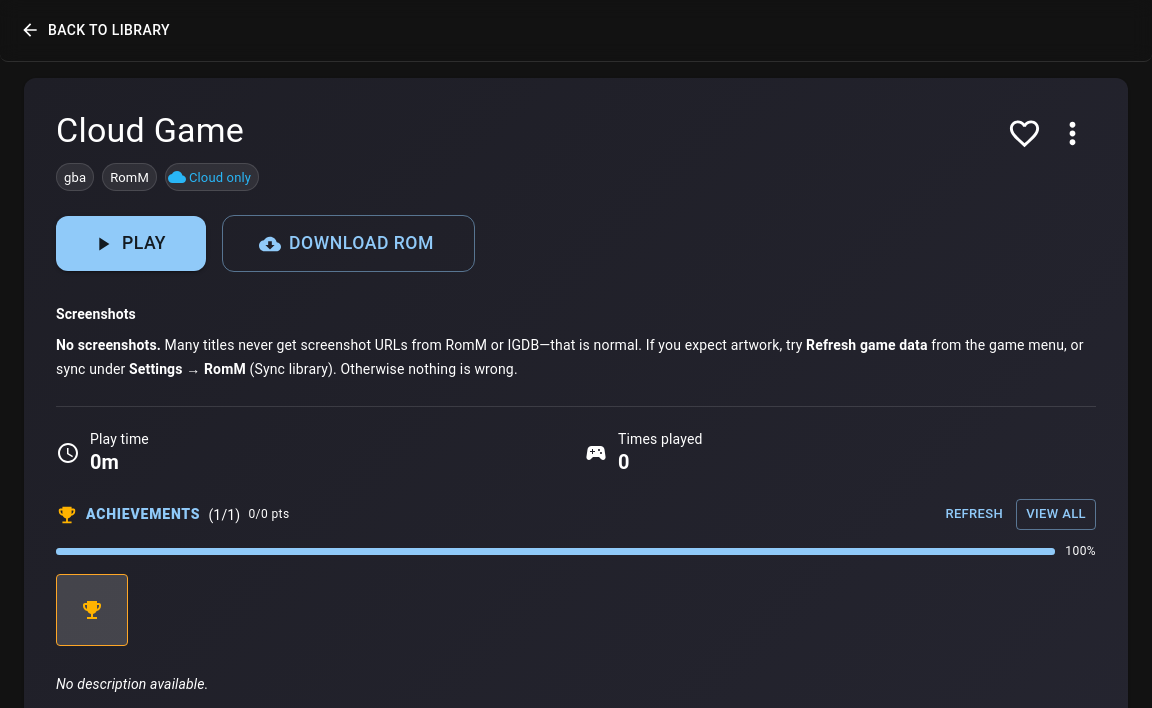
Test: GameDetails RetroAchievements refresh › retains the previous rows and marks them after a rejected refresh
Check: the text "(1/1)" is shown, box [208,505,240,525]
Step 1. Click the button with aria-label "Refresh achievement progress" → coordinates (974, 515), box [940,499,1008,530]
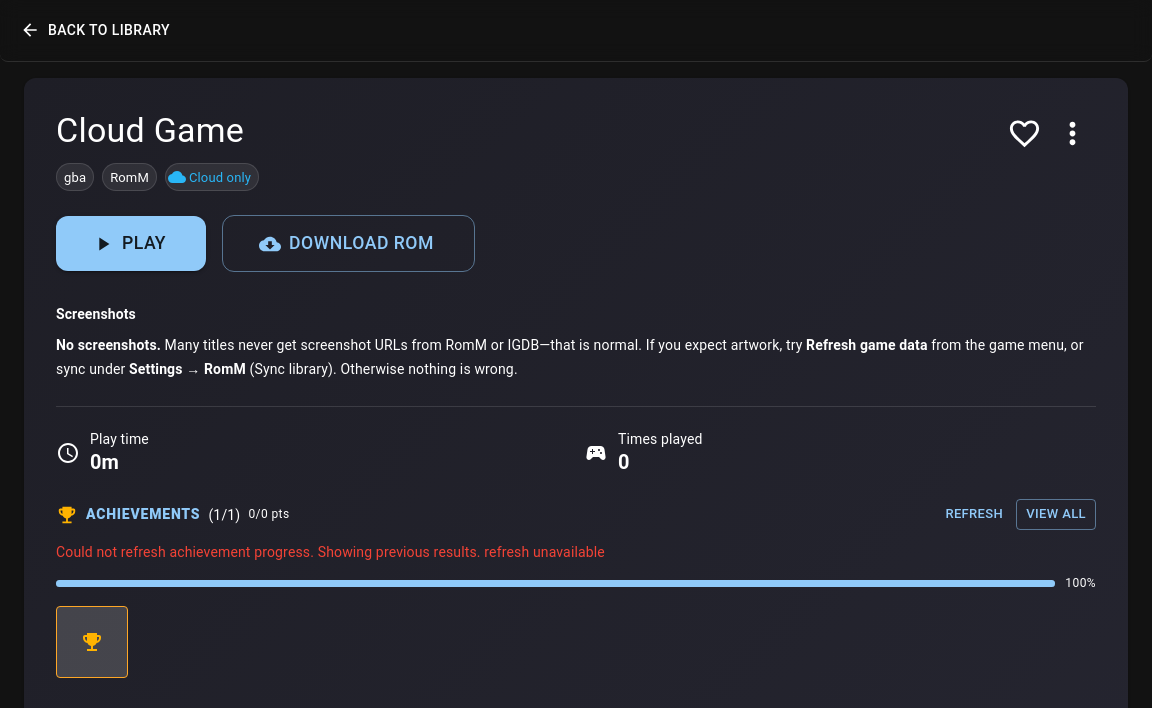
Check: the text "(1/1)" is shown, box [208,505,240,525]
Check: the message with test id "achievements-previous-result" shows "refresh unavailable", box [484,544,605,560]
Step 2. Click the button "View all" → coordinates (1056, 515), box [1016,499,1096,530]
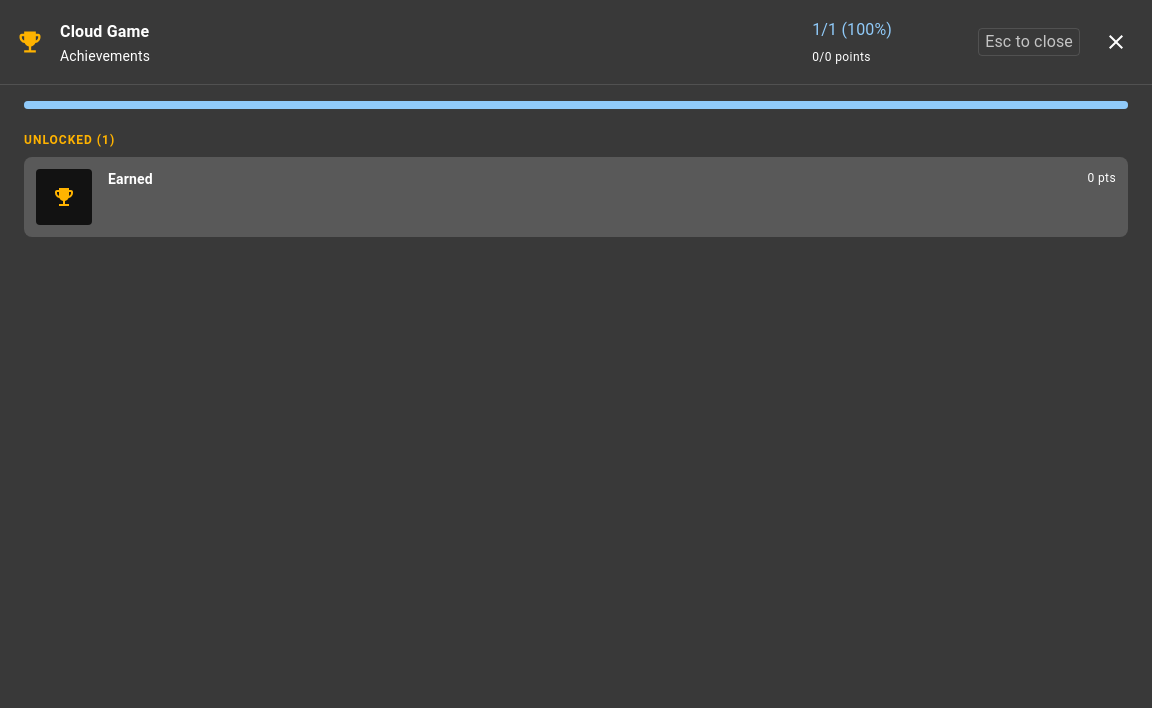
Check: the text "Earned" is shown, box [108,171,153,187]
